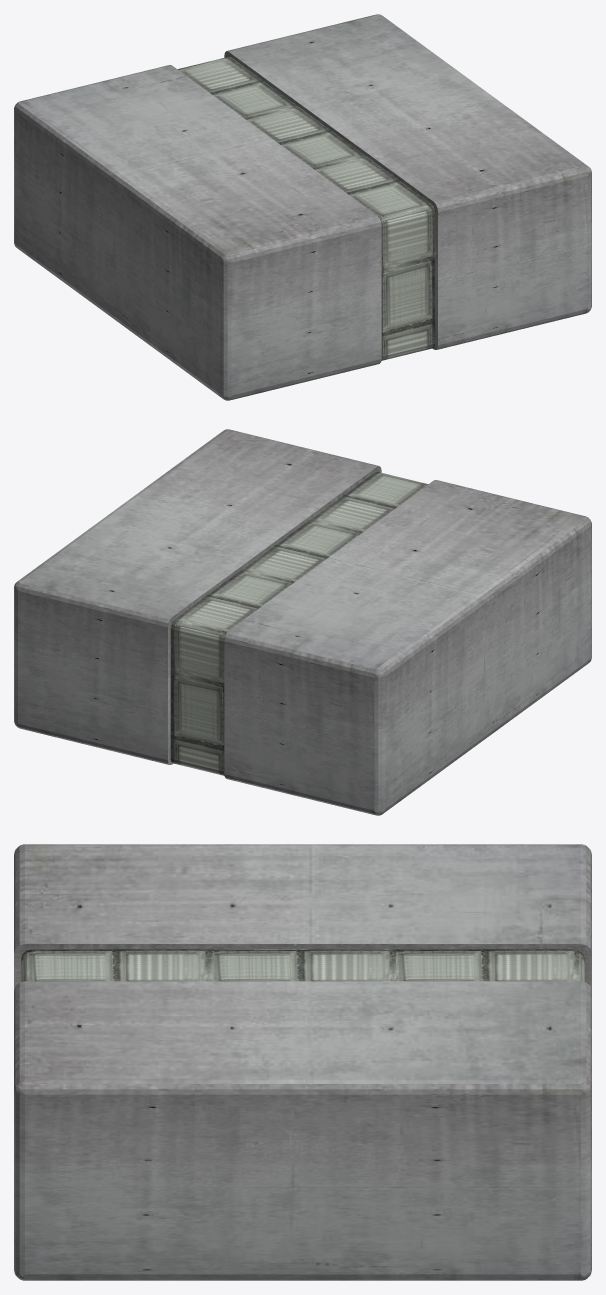
Rendered from cement_seating_high.fbx.
3 renders of one model, top to bottom at view 1: azimuth 30°, elevation 25°; view 2: azimuth 150°, elevation 25°; view 3: azimuth 270°, elevation 25°, orthographic. The views are drawn at different scales.
Visible parts, largest first — view 1: LeftSide400, RightSide400, GlassBlocks400; view 2: LeftSide400, RightSide400, GlassBlocks400; view 3: RightSide400, LeftSide400, GlassBlocks400.
Boxes of the visible parts, box(x1,y1,x2,y2) form: LeftSide400: box(14, 65, 381, 400); RightSide400: box(224, 14, 591, 349); GlassBlocks400: box(177, 56, 435, 360); LeftSide400: box(224, 480, 591, 815); RightSide400: box(14, 429, 381, 764); GlassBlocks400: box(170, 471, 428, 775); RightSide400: box(14, 981, 591, 1280); LeftSide400: box(14, 844, 591, 990); GlassBlocks400: box(21, 949, 584, 981).
Size of the model in its own units: 2 by 0.762 by 2.
